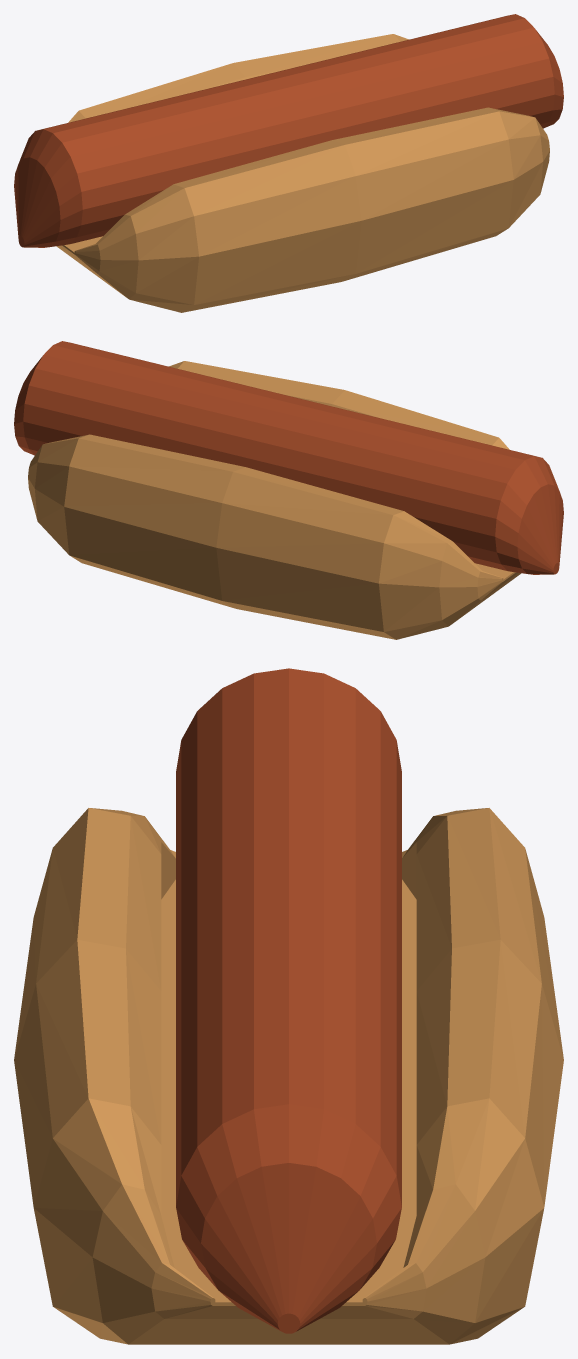
File: NEW_RECOVERY_004_LOD1.fbx
3 views of the same model, one above another, from view 1: azimuth 30°, elevation 25°; view 2: azimuth 150°, elevation 25°; view 3: azimuth 270°, elevation 25° (orthographic). The views are drawn at different scales.
Visible parts, largest first — view 1: whole_split_bun, whole_sausage; view 2: whole_split_bun, whole_sausage; view 3: whole_split_bun, whole_sausage.
Part boxes in pixels (box(x1,y1,x2,y2)): whole_split_bun: box(57, 34, 549, 312); whole_sausage: box(14, 14, 563, 247); whole_split_bun: box(28, 361, 520, 639); whole_sausage: box(14, 341, 563, 574); whole_split_bun: box(14, 808, 563, 1344); whole_sausage: box(176, 668, 401, 1333).
Bounding box in the file's own units: 23.8 × 11.2 × 7.14.
